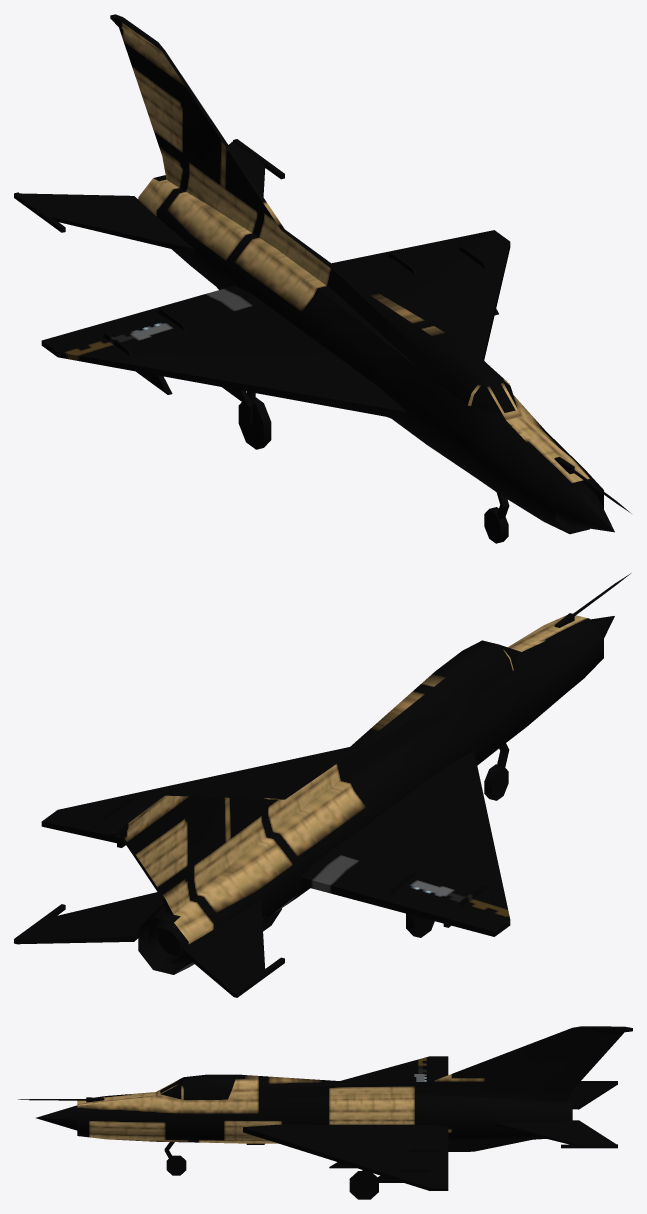
File: felix_plane.obj
The picture shows the model from 3 angles, top to bottom: view 1: azimuth 30°, elevation 25°; view 2: azimuth 150°, elevation 25°; view 3: azimuth 270°, elevation 25°; orthographic projection. The views are drawn at different scales.
Parts seen in each view (by area): view 1: body, 0_glass, surface0, lg2, surface4, surface2, surface1, lg0; view 2: body, surface0, 0_glass, surface2, surface3, surface4, surface1, lg0; view 3: body, surface0, 0_glass, lg1, surface4, surface1, surface3, lg0, surface2.
Boxes of the visible parts, box(x1,y1,x2,y2) form: body: box(14, 14, 631, 534); 0_glass: box(430, 338, 517, 413); surface0: box(120, 32, 189, 176); lg2: box(238, 391, 271, 449); surface4: box(20, 193, 147, 208); surface2: box(68, 311, 160, 343); surface1: box(392, 235, 483, 260); lg0: box(484, 492, 509, 543); body: box(14, 573, 630, 997); surface0: box(120, 823, 194, 899); 0_glass: box(440, 640, 517, 697); surface2: box(391, 889, 483, 929); surface3: box(18, 923, 143, 944); surface4: box(182, 936, 242, 995); surface1: box(67, 814, 125, 845); lg0: box(484, 743, 509, 800); body: box(18, 1026, 632, 1190); surface0: box(538, 1035, 621, 1090); 0_glass: box(160, 1074, 235, 1099); lg1: box(349, 1170, 378, 1199); surface4: box(572, 1082, 617, 1109); surface1: box(429, 1154, 448, 1179); surface3: box(559, 1120, 615, 1144); lg0: box(164, 1142, 186, 1175); surface2: box(429, 1063, 448, 1081).
Size of the model in its own units: 9.34 by 4.88 by 18.58.
